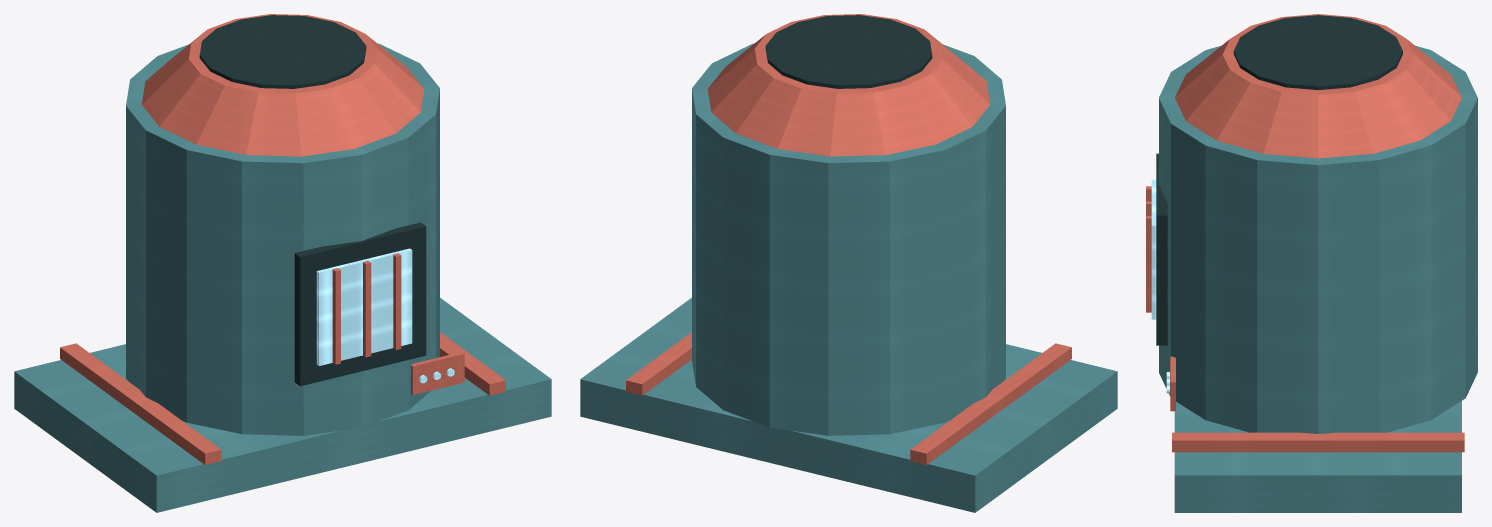
Rendered from atlas100-s080-a01.glb.
3 views of the same model, side by side, from view 1: azimuth 30°, elevation 25°; view 2: azimuth 150°, elevation 25°; view 3: azimuth 270°, elevation 25° (orthographic).
Parts seen in each view (by area): view 1: atlas100-s080-a01:part-003, atlas100-s080-a01:part-000, atlas100-s080-a01:part-004, atlas100-s080-a01:part-005, atlas100-s080-a01:part-006, atlas100-s080-a01:part-007, atlas100-s080-a01:part-001, atlas100-s080-a01:part-011, atlas100-s080-a01:part-002, atlas100-s080-a01:part-008, atlas100-s080-a01:part-010, atlas100-s080-a01:part-009; view 2: atlas100-s080-a01:part-003, atlas100-s080-a01:part-000, atlas100-s080-a01:part-004, atlas100-s080-a01:part-005, atlas100-s080-a01:part-001, atlas100-s080-a01:part-002; view 3: atlas100-s080-a01:part-003, atlas100-s080-a01:part-004, atlas100-s080-a01:part-000, atlas100-s080-a01:part-005, atlas100-s080-a01:part-002, atlas100-s080-a01:part-006, atlas100-s080-a01:part-007, atlas100-s080-a01:part-010.
Part boxes in pixels (x1,y1,x2,y2): atlas100-s080-a01:part-003: (126, 43, 439, 435); atlas100-s080-a01:part-000: (14, 298, 551, 512); atlas100-s080-a01:part-004: (141, 14, 424, 156); atlas100-s080-a01:part-005: (199, 15, 366, 88); atlas100-s080-a01:part-006: (294, 222, 426, 386); atlas100-s080-a01:part-007: (316, 248, 412, 365); atlas100-s080-a01:part-001: (60, 343, 221, 465); atlas100-s080-a01:part-011: (411, 352, 464, 394); atlas100-s080-a01:part-002: (440, 332, 505, 395); atlas100-s080-a01:part-008: (332, 268, 340, 364); atlas100-s080-a01:part-010: (393, 253, 401, 349); atlas100-s080-a01:part-009: (363, 260, 371, 357); atlas100-s080-a01:part-003: (692, 43, 1005, 435); atlas100-s080-a01:part-000: (580, 298, 1117, 512); atlas100-s080-a01:part-004: (707, 14, 990, 156); atlas100-s080-a01:part-005: (765, 15, 932, 88); atlas100-s080-a01:part-001: (910, 343, 1071, 465); atlas100-s080-a01:part-002: (626, 332, 691, 395); atlas100-s080-a01:part-003: (1159, 45, 1477, 433); atlas100-s080-a01:part-004: (1175, 14, 1461, 158); atlas100-s080-a01:part-000: (1174, 401, 1461, 512); atlas100-s080-a01:part-005: (1233, 15, 1402, 90); atlas100-s080-a01:part-002: (1172, 432, 1464, 452); atlas100-s080-a01:part-006: (1156, 153, 1167, 345); atlas100-s080-a01:part-007: (1151, 179, 1156, 319); atlas100-s080-a01:part-010: (1146, 216, 1151, 312).
Bounding box in the file's own units: 2.88 × 2.53 × 2.08.
4 materials, 4 textured.
